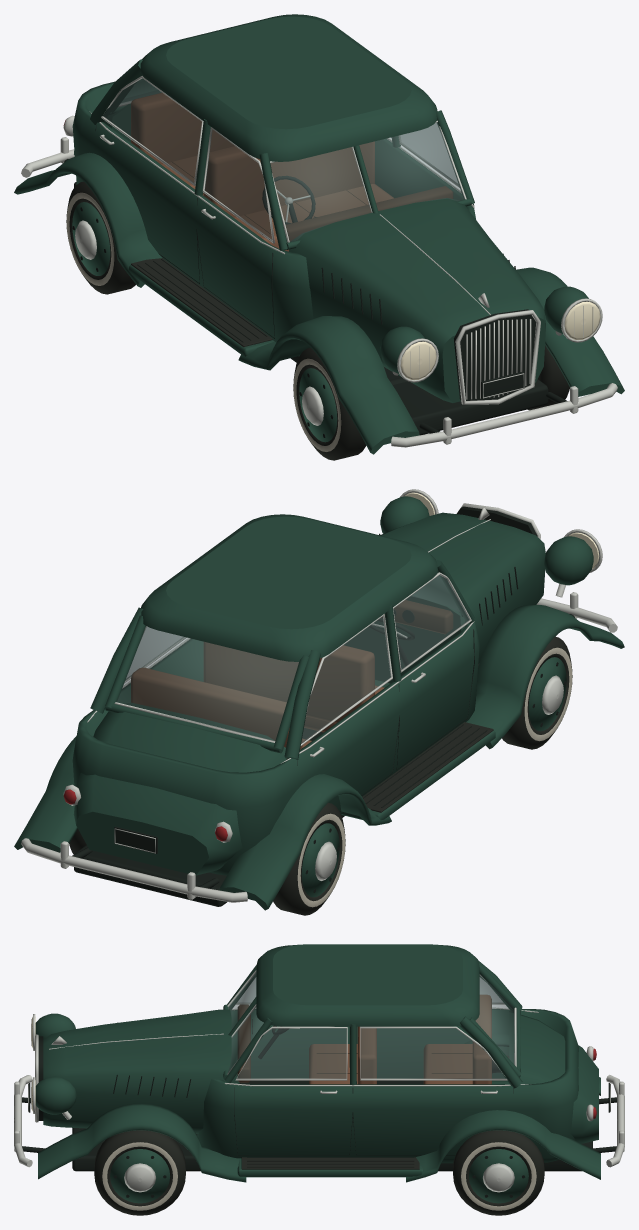
File: rpg-mansion-classic-sedan-01.glb
The picture shows the model from 3 angles, top to bottom: view 1: azimuth 30°, elevation 25°; view 2: azimuth 150°, elevation 25°; view 3: azimuth 270°, elevation 25°; orthographic projection. The views are drawn at different scales.
Parts seen in each view (by area): view 1: rpg-mansion-classic-sedan-01; view 2: rpg-mansion-classic-sedan-01; view 3: rpg-mansion-classic-sedan-01.
Boxes of the visible parts, x1,y1,x2,y2 form: rpg-mansion-classic-sedan-01: (14, 14, 624, 460); rpg-mansion-classic-sedan-01: (14, 489, 624, 915); rpg-mansion-classic-sedan-01: (14, 944, 624, 1215).
Bounding box in the file's own units: 1.75 × 1.65 × 4.6.
